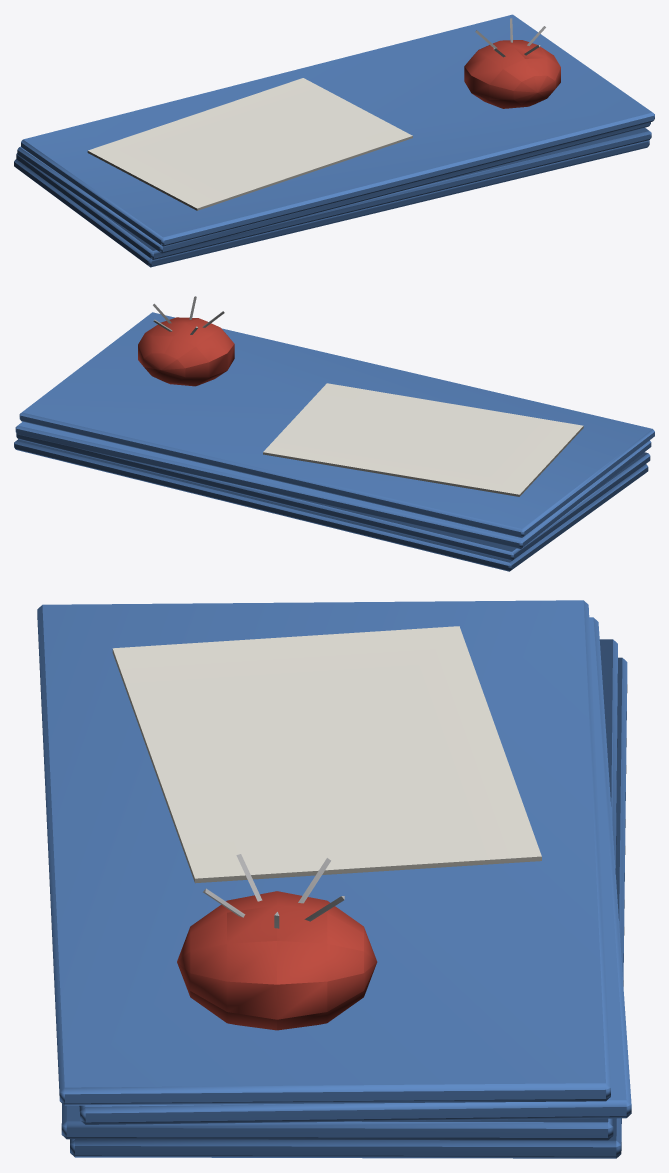
The model's file is cloth_pinned.glb.
3 views of the same model, one above another, from view 1: azimuth 30°, elevation 25°; view 2: azimuth 150°, elevation 25°; view 3: azimuth 270°, elevation 25° (orthographic). The views are drawn at different scales.
Visible parts, largest first — view 1: static; view 2: static; view 3: static.
Part boxes in pixels (box(x1,y1,x2,y2)): static: box(14, 14, 654, 267); static: box(14, 296, 654, 571); static: box(37, 600, 631, 1158).
Bounding box in the file's own units: 0.4661 × 0.0859 × 0.2371.
